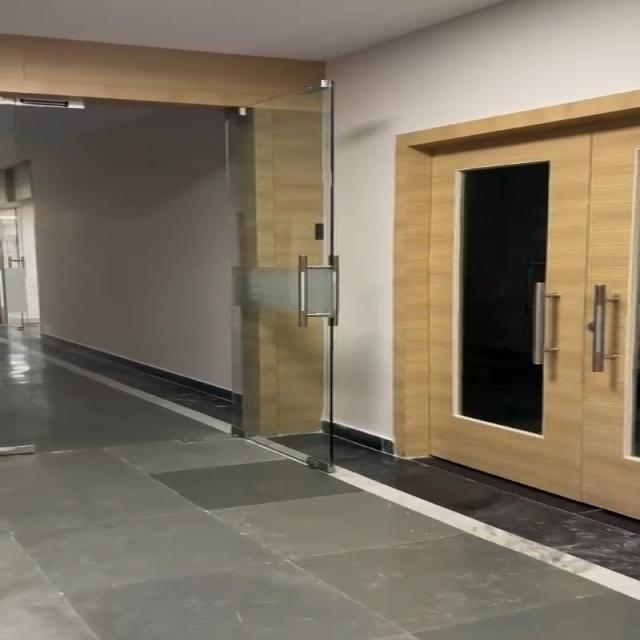door: (0, 32, 317, 449), (382, 113, 640, 470)
floor: (38, 463, 640, 640)
